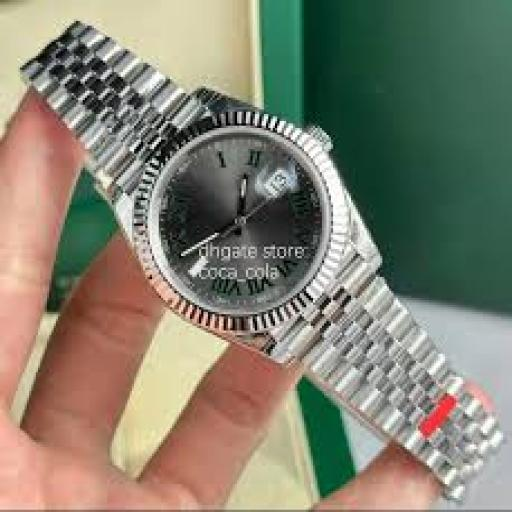KolSaati: (17, 24, 490, 500)
